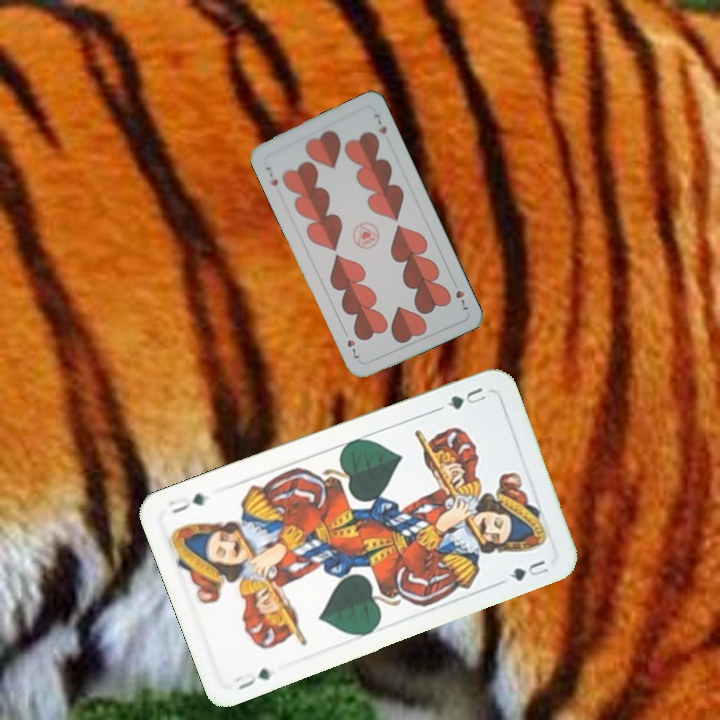GU: (443, 383, 489, 412), (231, 664, 275, 693)
H7: (448, 276, 471, 314), (261, 163, 281, 189)
